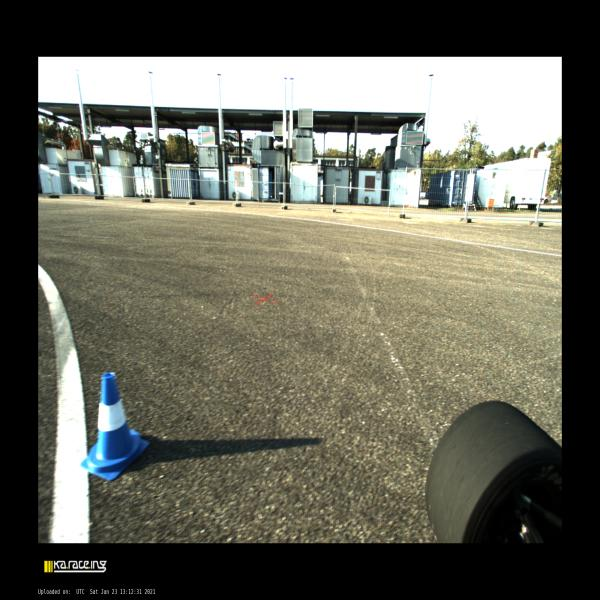blue_cone: (79, 372, 149, 481)
